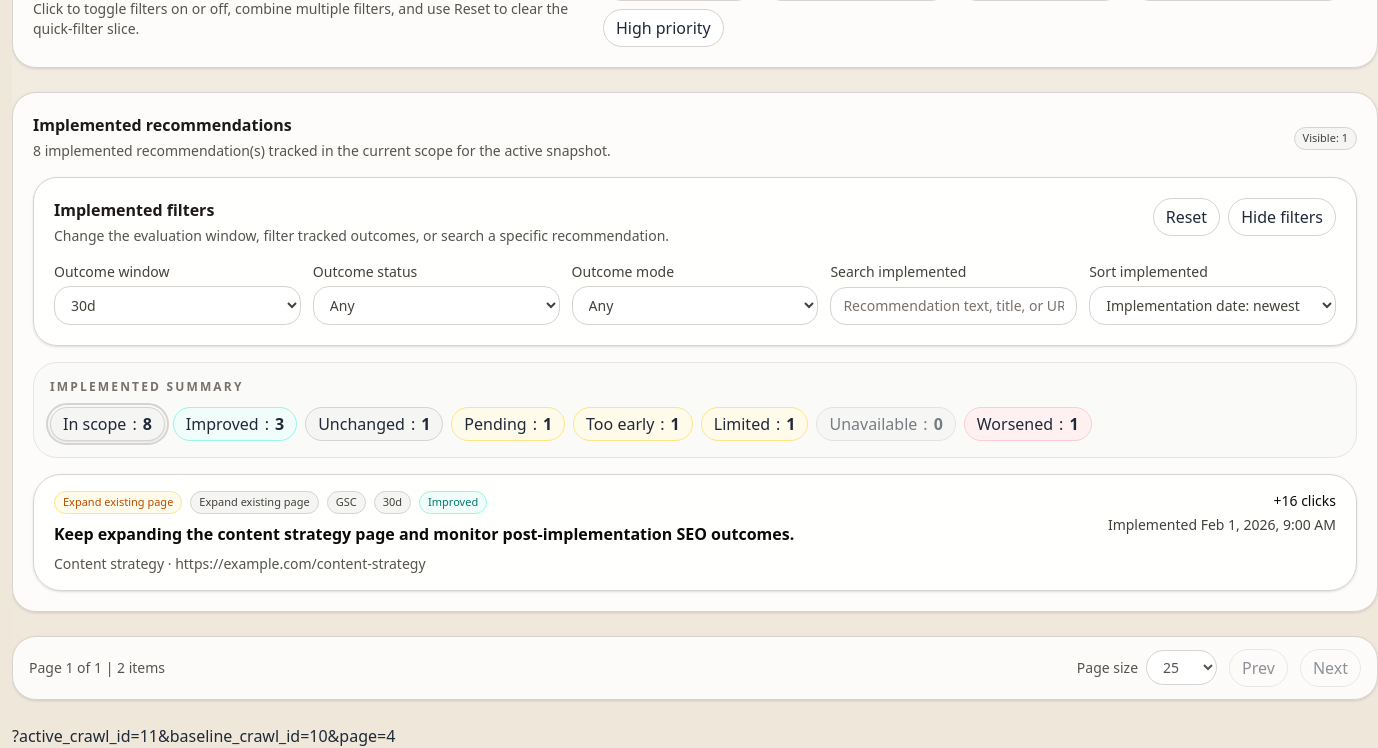
SiteContentRecommendationsPage › clicking the Improved summary badge updates the status filter and resets page to 1
The width and height of the screenshot is (1378, 748).
(page scrolled)
Click the button with aria-label "Improved: 3" at (235, 424), box [173,407,297,441]
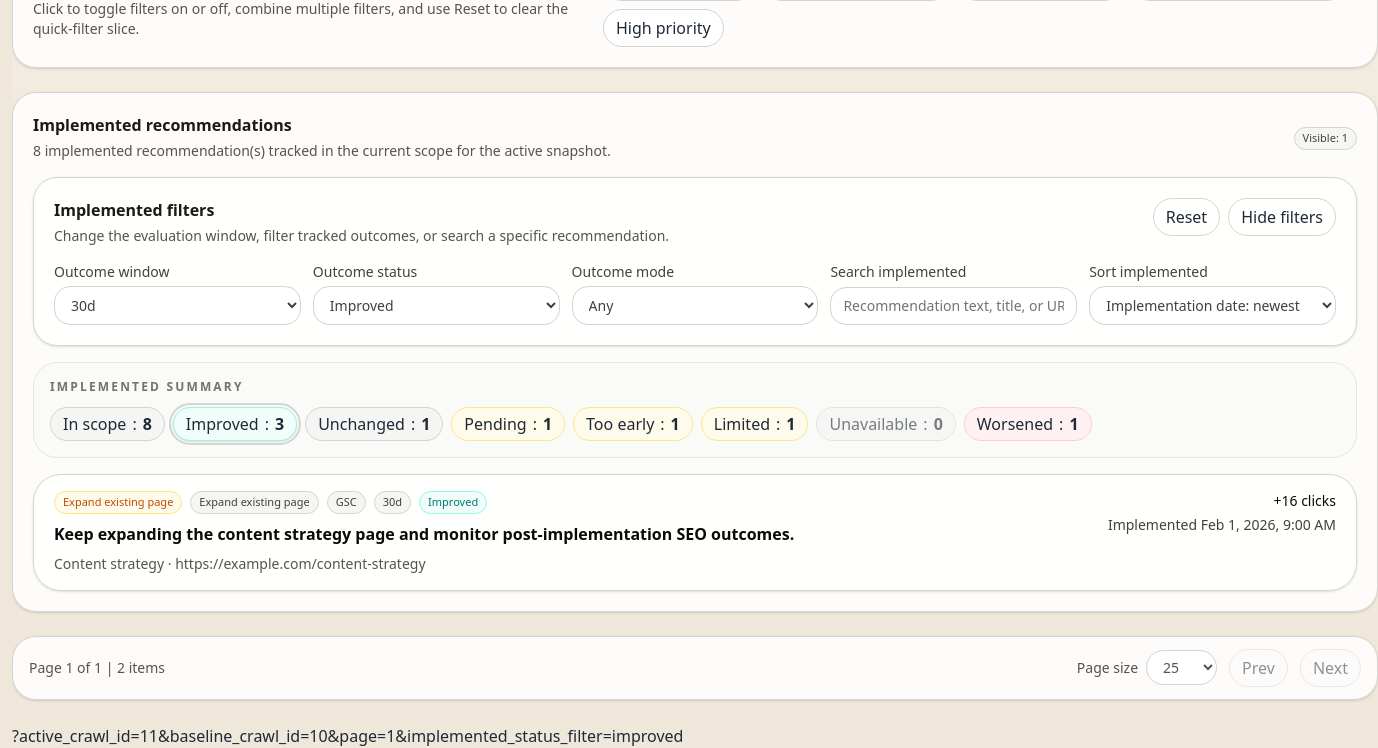
Check: the text with test id "location-search" shows "implemented_status_filter=improved", box [12,724,684,746]
Check: the text with test id "location-search" shows "page=1", box [12,724,684,746]
